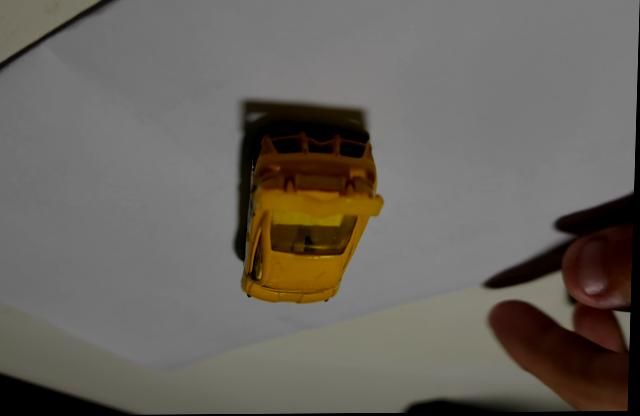07_RHLTURBO: (242, 118, 386, 303)
